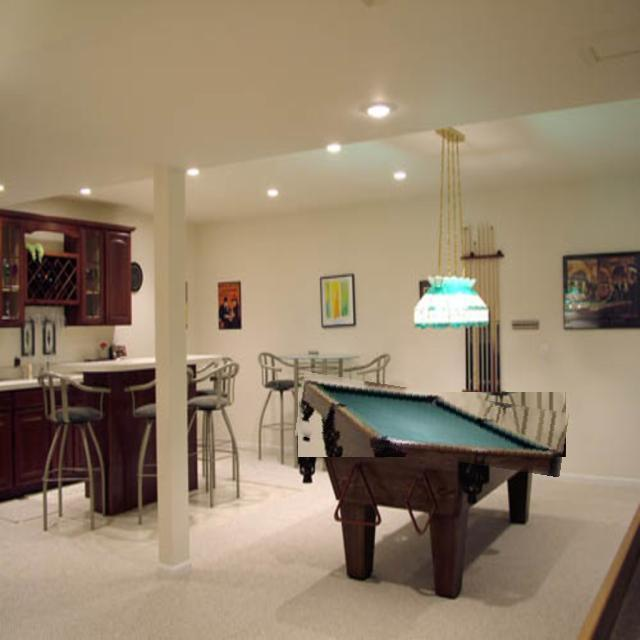Billiard table: (296, 382, 568, 467)
